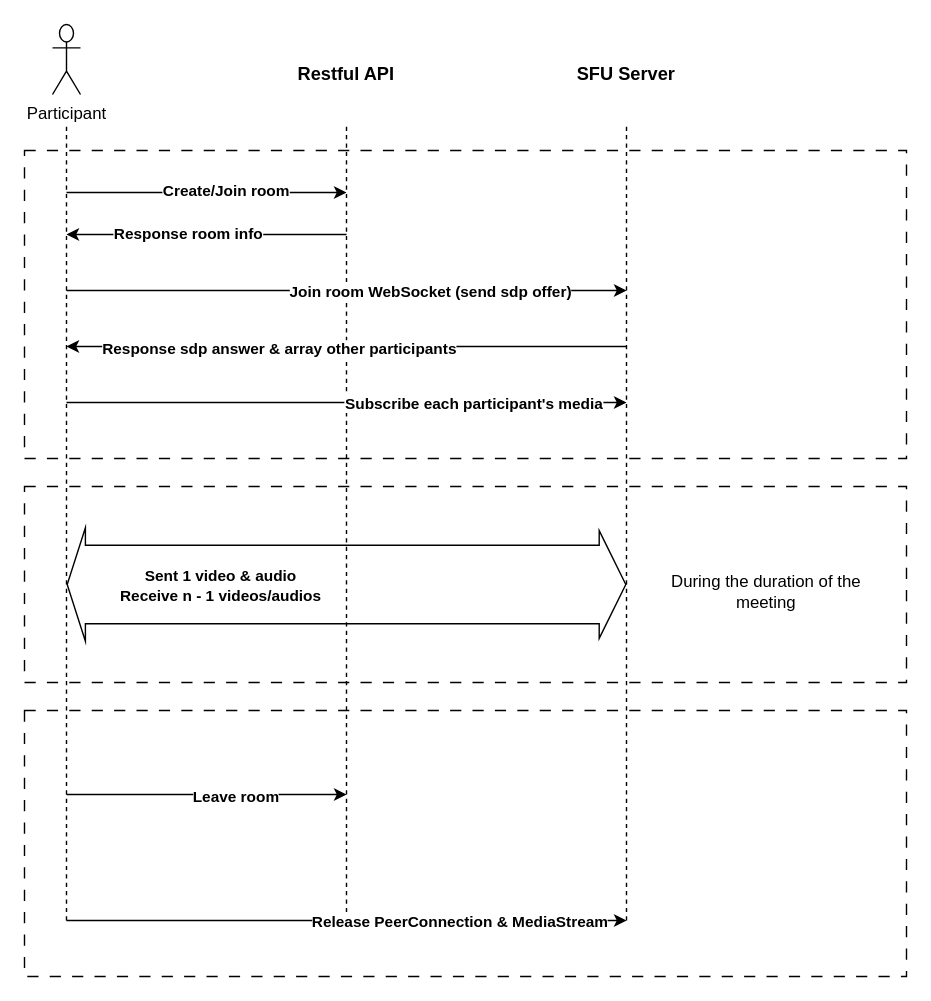
Image size: 931x1001. Some labels were removed from this diagram. Each missing label, with the centre of its shape:
"Authorize & Establish room, connections" belongs at point (464, 303).
"Leave room & Release resources (MediaStream,...)" belongs at point (464, 842).
